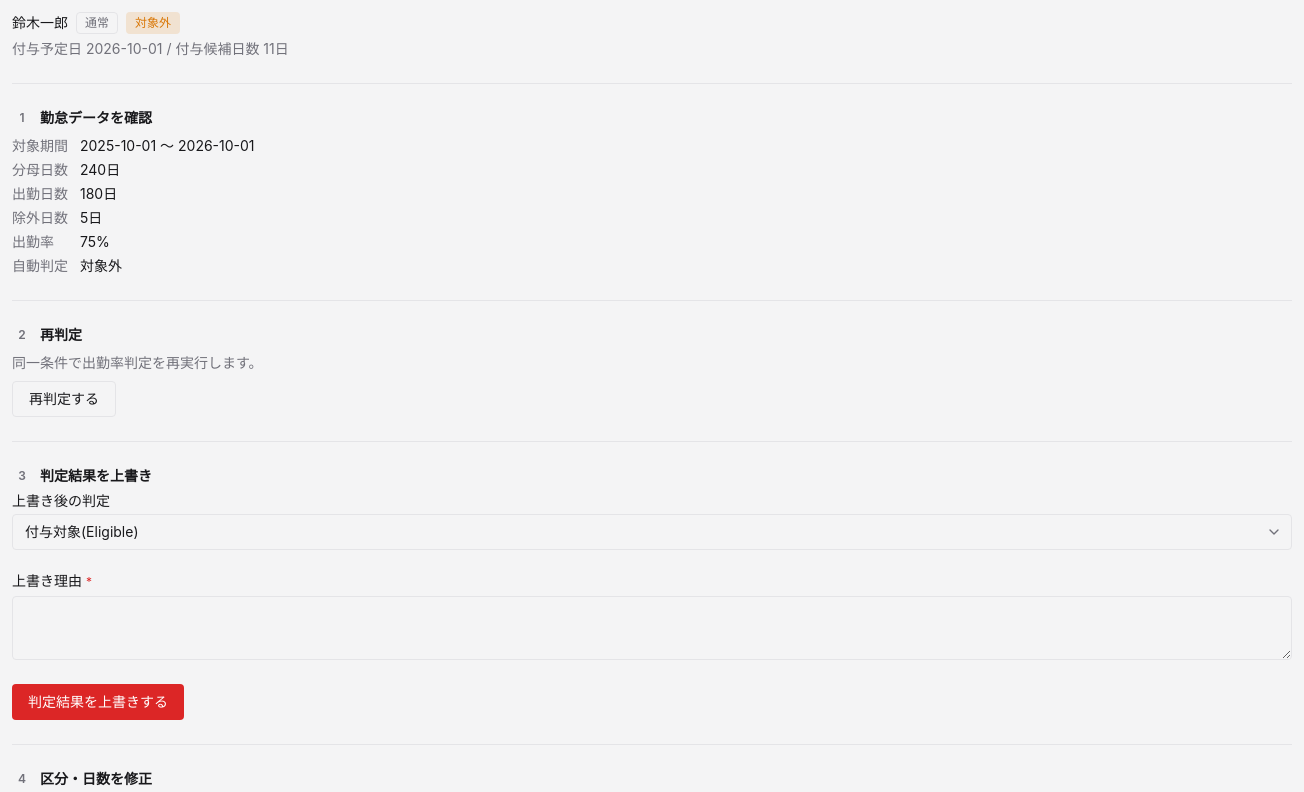
Test: PaidLeaveScheduleAssessmentPanel › shows a field error and does not submit when the override reason is empty
The width and height of the screenshot is (1304, 792).
Click the button "判定結果を上書きする".
click(98, 702)  # box [12, 684, 184, 720]
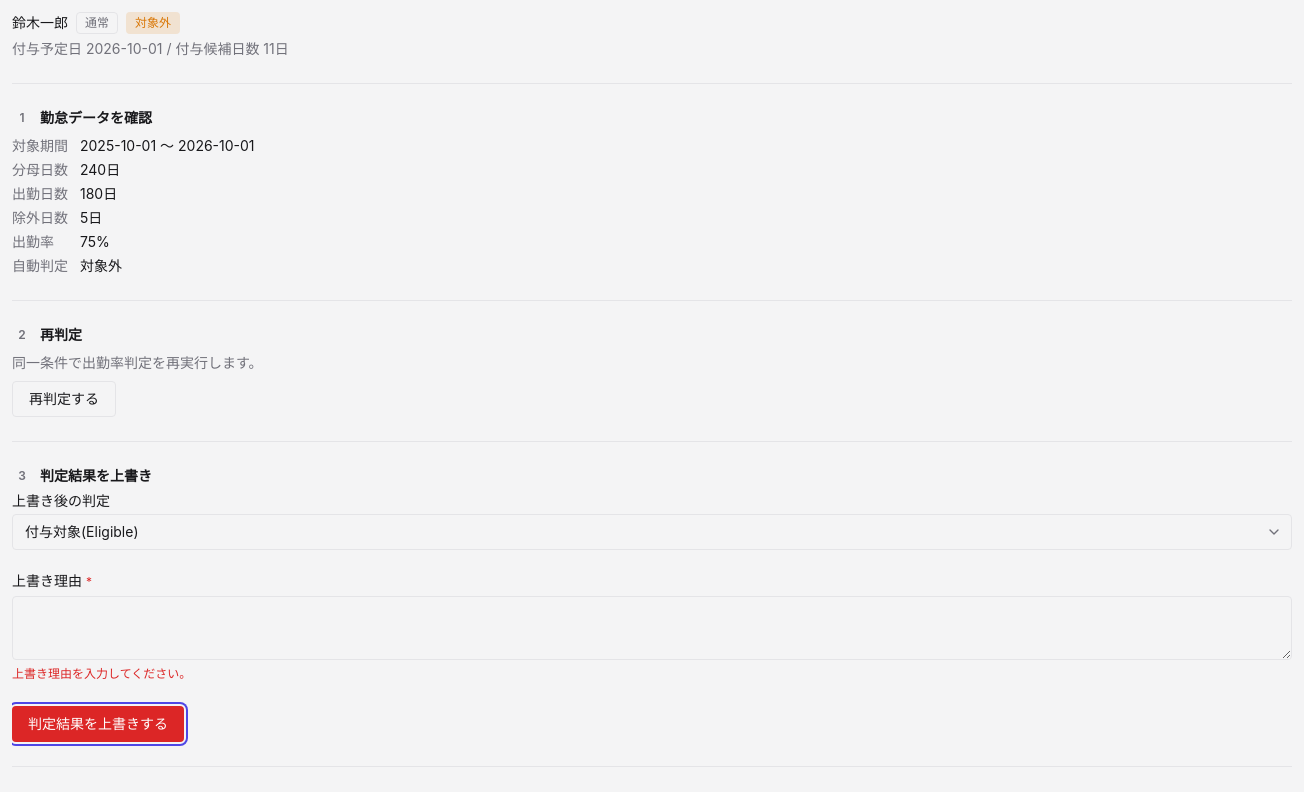
Expected: the text "上書き理由を入力してください。" is shown, [12, 666, 191, 681]
